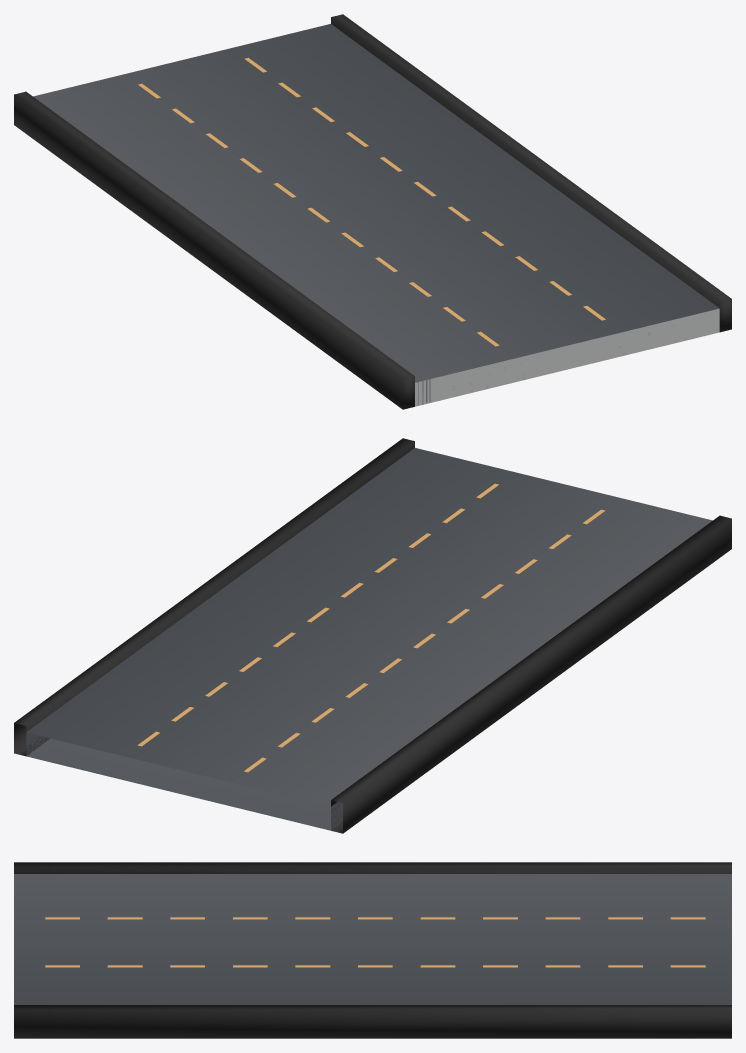
Rendered from AddiotinalPiecePath2.fbx.
3 views of the same model, one above another, from view 1: azimuth 30°, elevation 25°; view 2: azimuth 150°, elevation 25°; view 3: azimuth 270°, elevation 25° (orthographic). The views are drawn at different scales.
Visible parts, largest first — view 1: Plane.001; view 2: Plane.001; view 3: Plane.001.
Part boxes in pixels (x1,y1,x2,y2): Plane.001: (14, 14, 731, 409); Plane.001: (14, 438, 731, 833); Plane.001: (14, 862, 731, 1038).
Size of the model in its own units: 670 by 59.39 by 1372.
